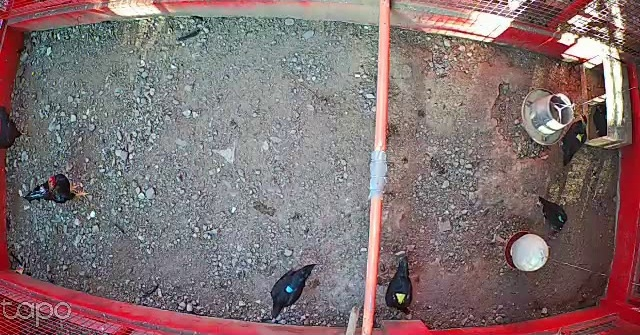Chicken: (270, 256, 320, 322), (381, 253, 420, 318), (552, 114, 590, 170), (535, 192, 569, 237), (0, 103, 25, 156)
Rooster: (21, 167, 87, 209)
Saddle_Color_Blue: (286, 284, 294, 292)
Saddle_Color_Yellow: (392, 292, 409, 305)
